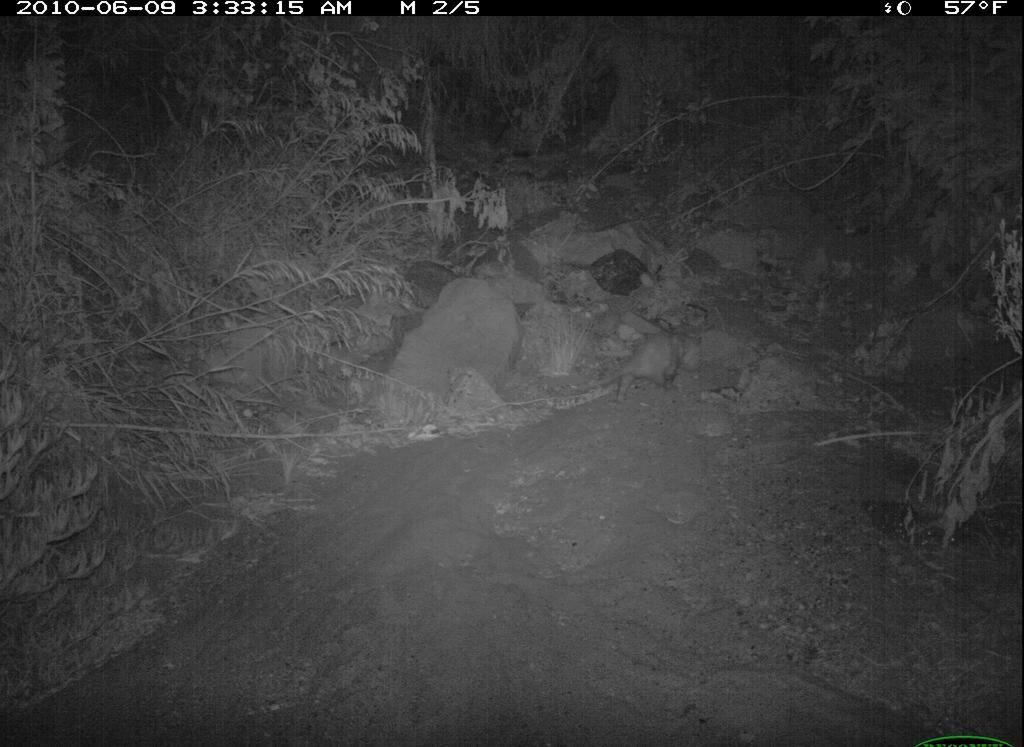opossum: (582, 328, 705, 409)
